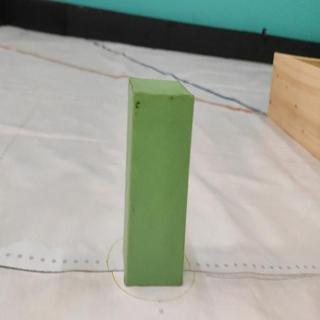greenbox: (124, 73, 196, 285)
